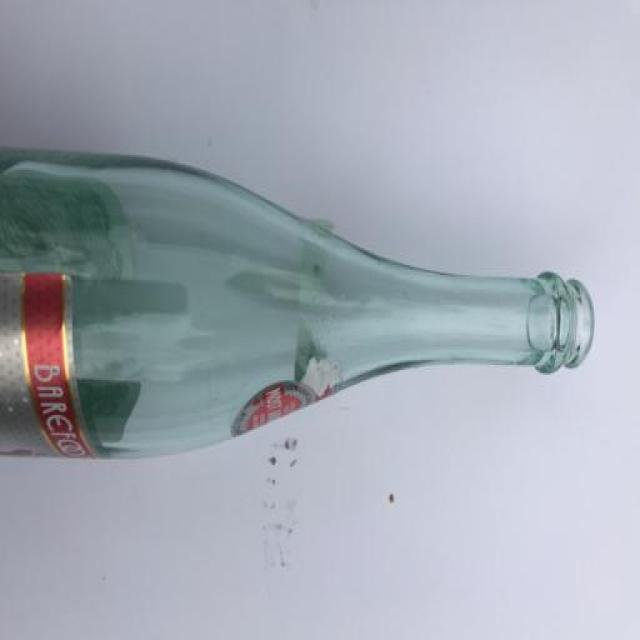glass: (0, 150, 589, 457)
